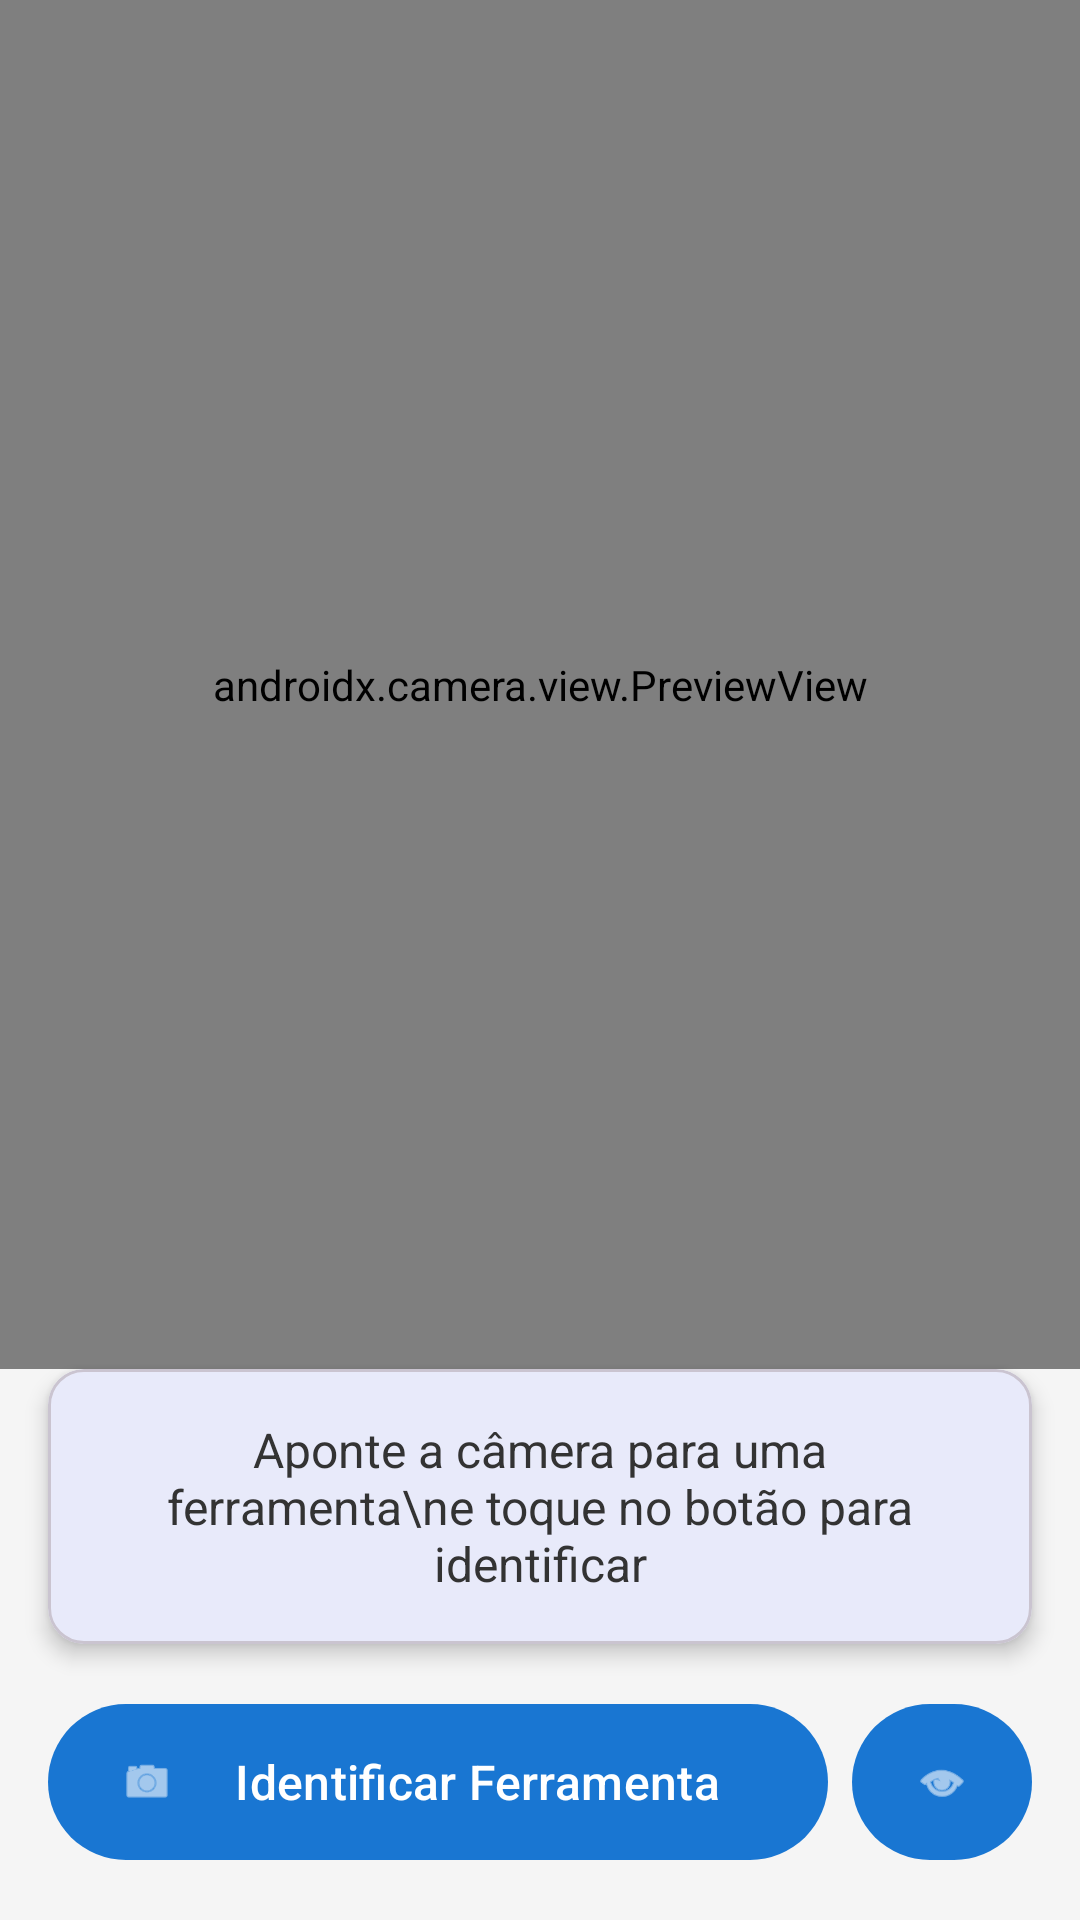

Named icons in this screenshot (1080x1920) and their bounding boxes, bbox(x1, y1, x2, y2):
view: bbox(852, 1704, 1032, 1860)
